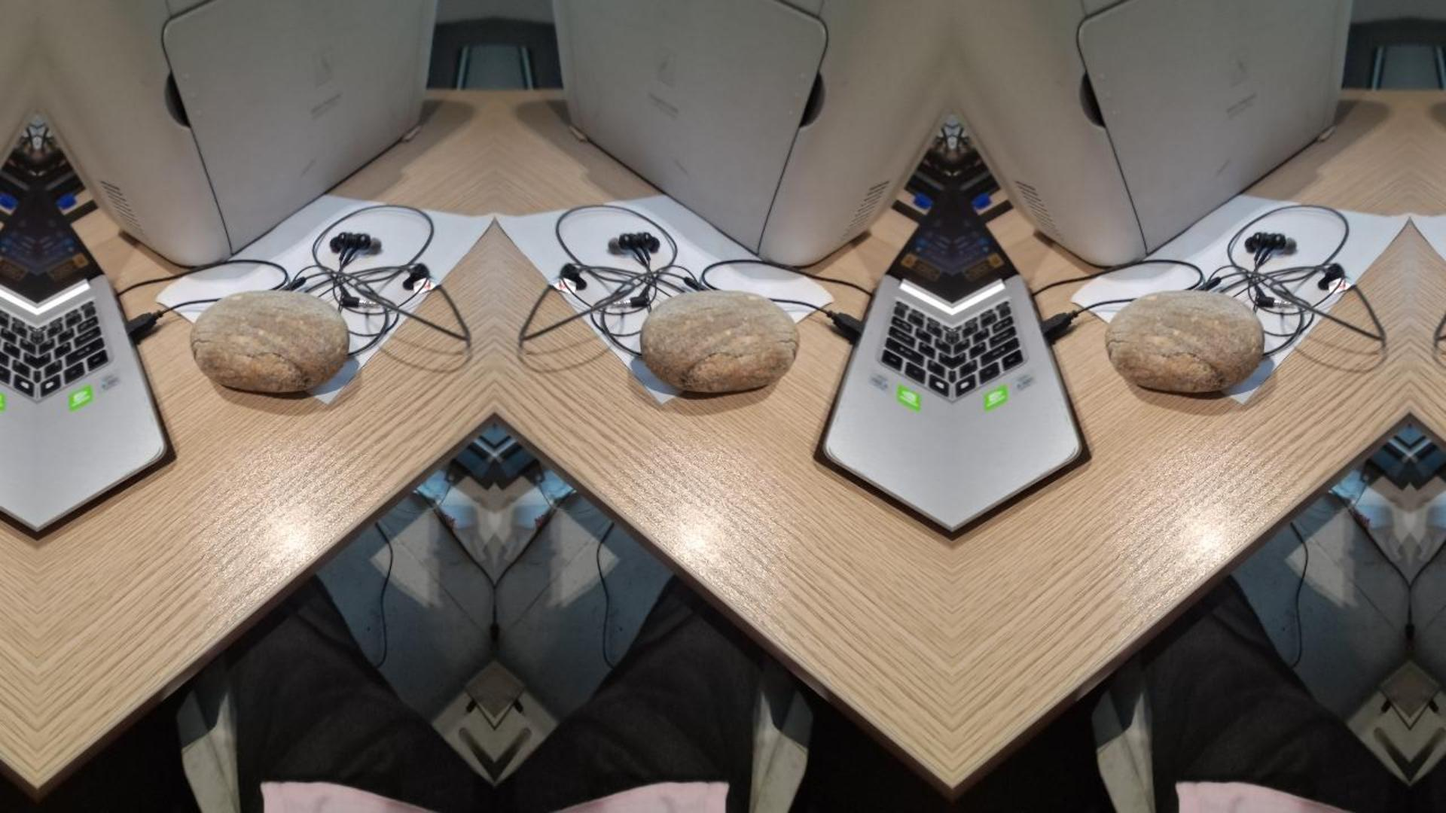rock: (1105, 291, 1263, 393), (641, 291, 798, 393), (191, 291, 348, 393)
